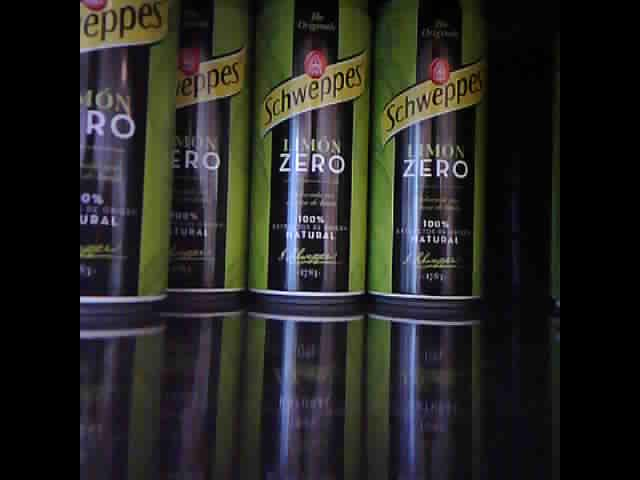schweppes: (246, 3, 371, 304), (366, 16, 490, 306), (79, 4, 174, 315), (164, 3, 252, 298)
